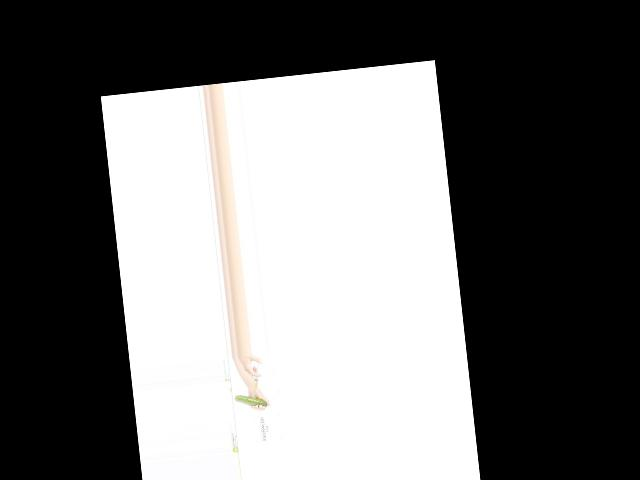cucumber: (234, 391, 267, 409)
